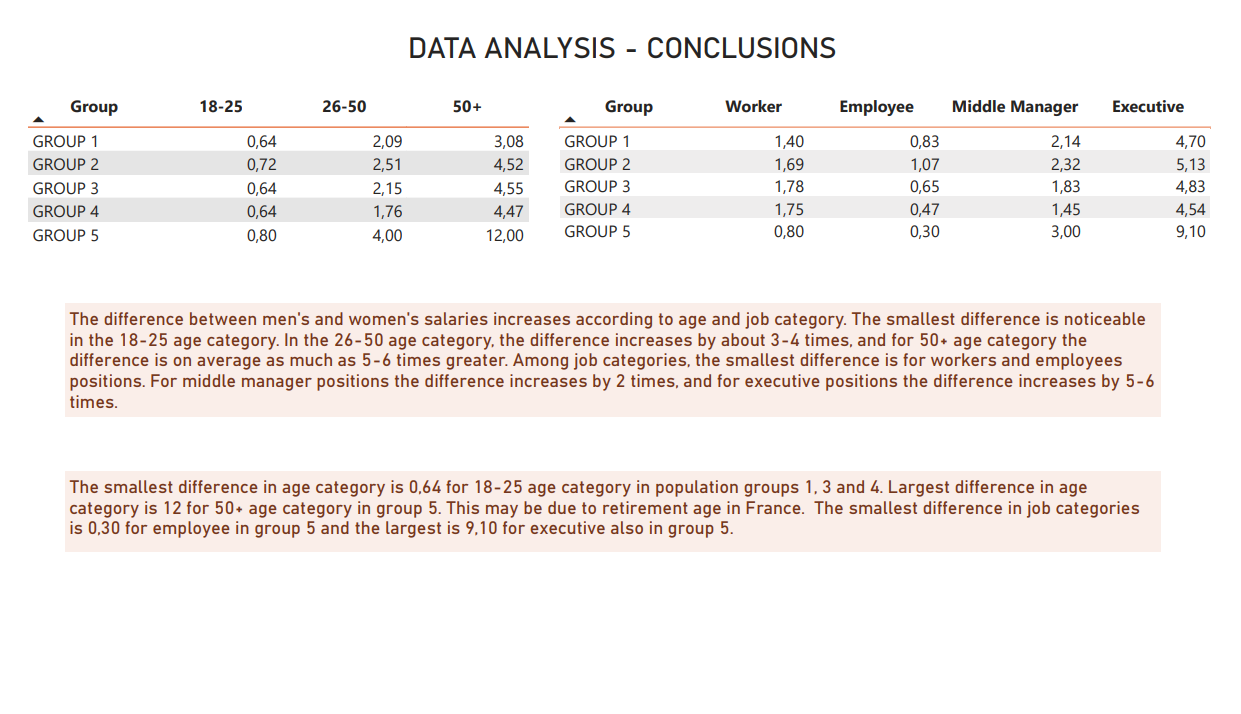

What the dashboard file says about the page in this screenshot:
{"tool":"powerbi","page":{"name":"Page 5","canvas":[1280,720],"ordinal":5},"visuals":[{"type":"tableEx","fields":{"Values":["mean net in different jobs and ages for women and men.GROUP","Sum(mean net in different jobs and ages for women and men.DIFFERENCE 18-25 ABS)","Sum(mean net in different jobs and ages for women and men.DIFFERENCE 26-50 ABS)","Sum(mean net in different jobs and ages for women and men.DIFFERENCE 50+ ABS)"]},"box":[0,74.1,566.7,178.4],"z":0},{"type":"tableEx","fields":{"Values":["mean net in different jobs and ages for women and men.GROUP","Sum(mean net in different jobs and ages for women and men.DIFFERENCE WORKER ABS)","Sum(mean net in different jobs and ages for women and men.DIFFERENCE EMPLOYEE ABS)","Sum(mean net in different jobs and ages for women and men.DIFFERENCE MIDDLE MANAGER ABS)","Sum(mean net in different jobs and ages for women and men.DIFFERENCE EXECUTIVE ABS)"]},"box":[566.7,74.1,713.6,178.4],"z":1000},{"type":"textbox","title":"DATA ANALYSIS - CONCLUSIONS","box":[0,12.3,1280.3,41.2],"z":2000},{"type":"textbox","box":[45.2,303.2,1168.6,121],"z":3000},{"type":"textbox","box":[45.2,481.6,1168.6,86.8],"z":4000}]}

Visuals, with their boxes in screenshot pixels (x1, y1, x2, y2), scaled from the page's 1280x720 canvas onto the 1241x714 screenshot:
tableEx - mean net in different jobs and ages for women and men.GROUP x Sum(mean net in different jobs and ages for women and men.DIFFERENCE 18-25 ABS): box=[0, 73, 549, 250]
tableEx - mean net in different jobs and ages for women and men.GROUP x Sum(mean net in different jobs and ages for women and men.DIFFERENCE WORKER ABS): box=[549, 73, 1240, 250]
"DATA ANALYSIS - CONCLUSIONS" textbox: box=[0, 12, 1240, 53]
textbox: box=[44, 301, 1177, 421]
textbox: box=[44, 478, 1177, 564]
